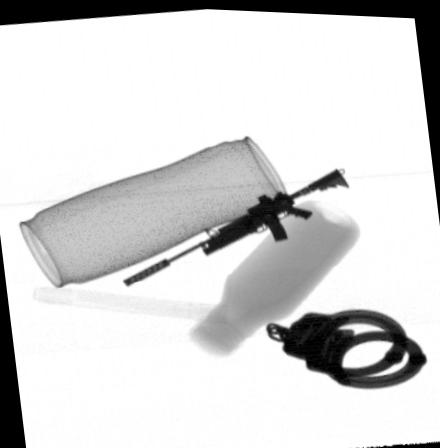Gun: (117, 163, 351, 288)
HandCuffs: (268, 306, 430, 387)
